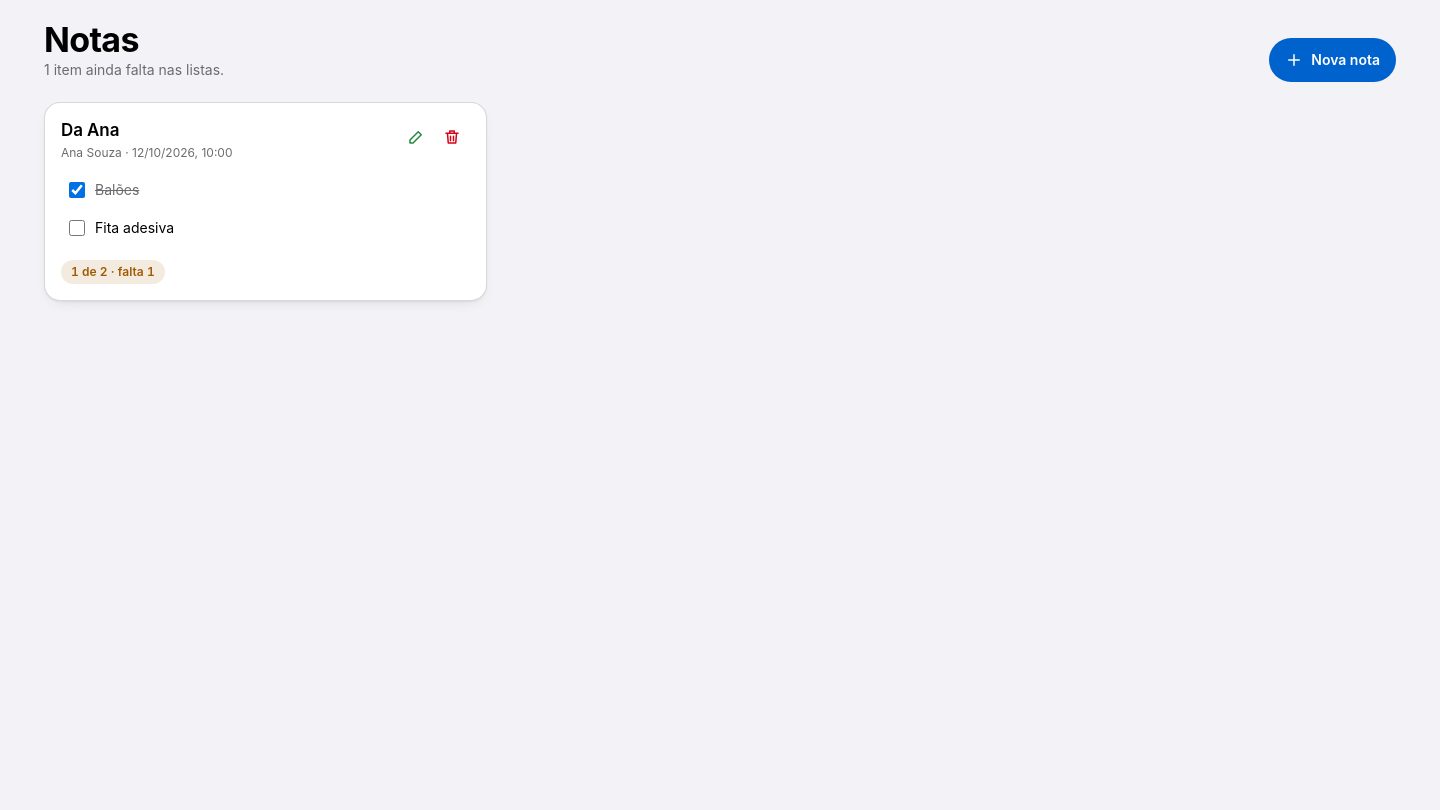
it: tela de notas › o secretário exclui a nota de outra pessoa
Click the button named "Excluir Da Ana".
click(452, 137)  # box [434,119,470,155]
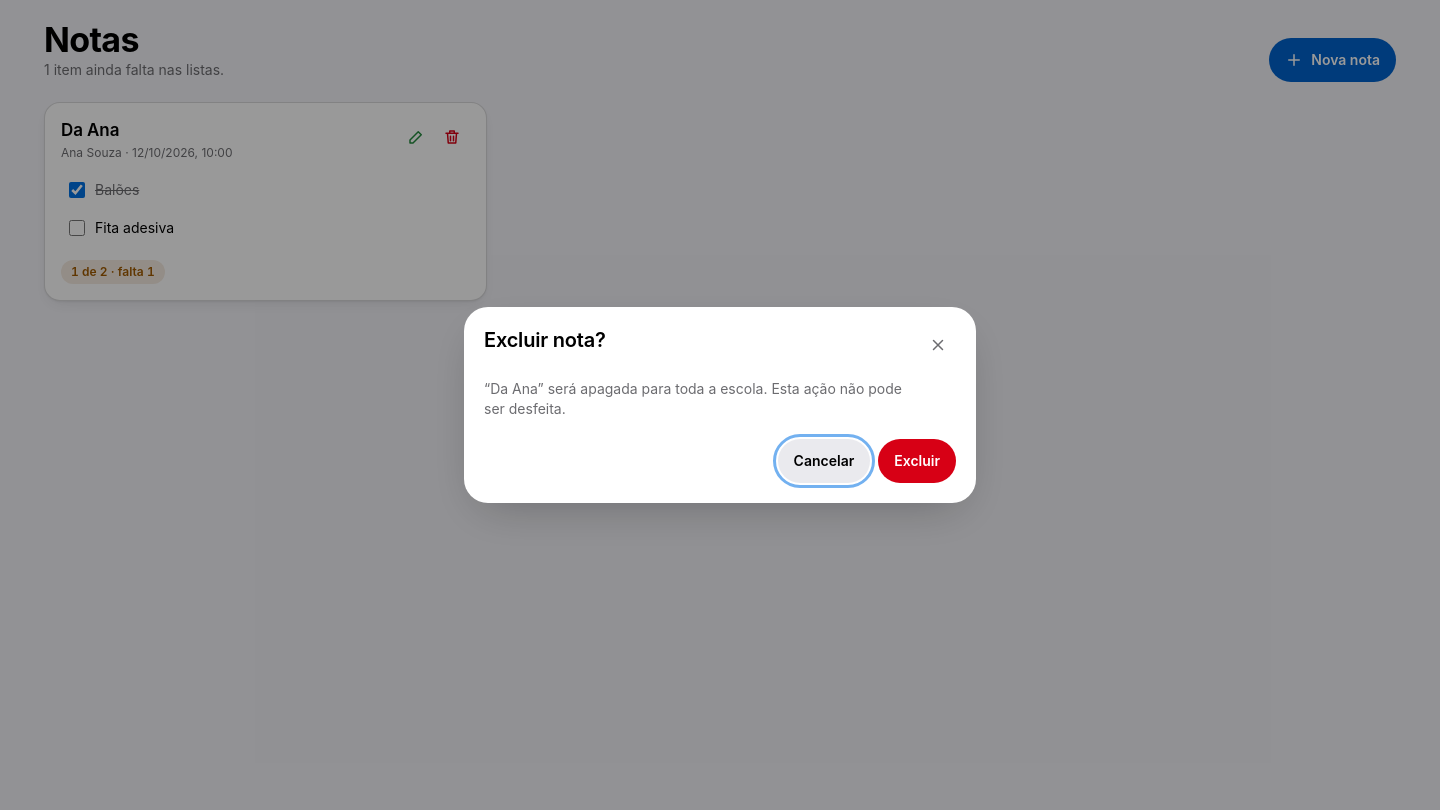
Click the button "Excluir".
click(917, 461)  # box [878,439,956,483]
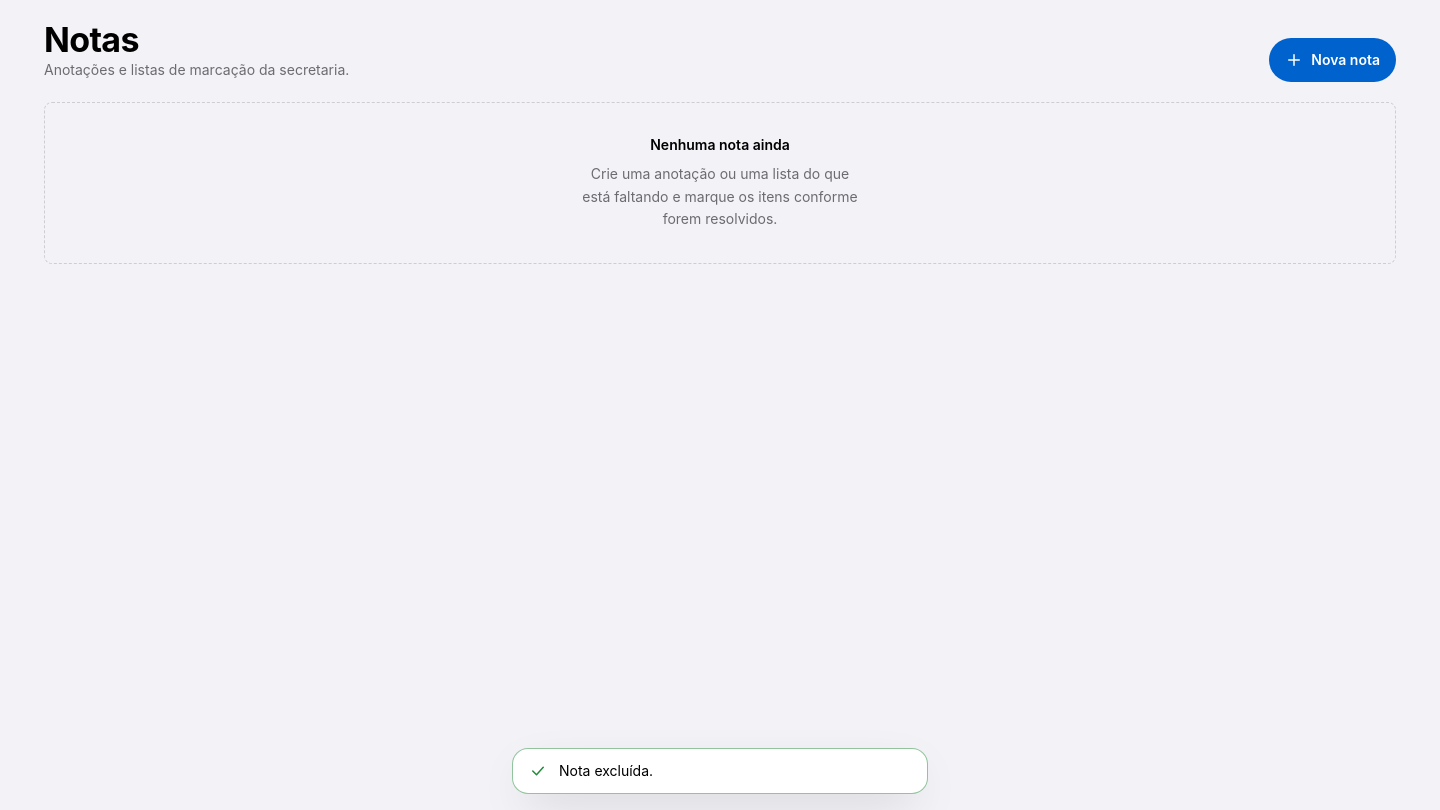
Result: the heading "Da Ana" is gone
